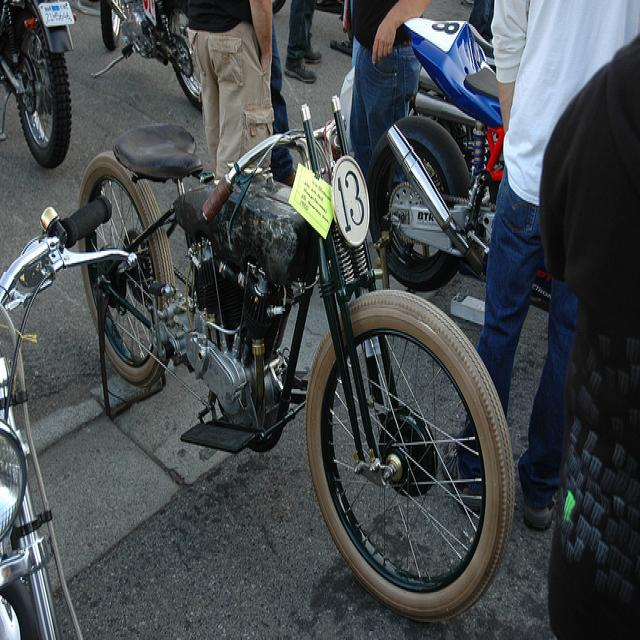motor: (78, 94, 515, 623), (0, 192, 134, 630), (368, 11, 511, 289), (0, 0, 77, 170), (90, 0, 205, 107)
